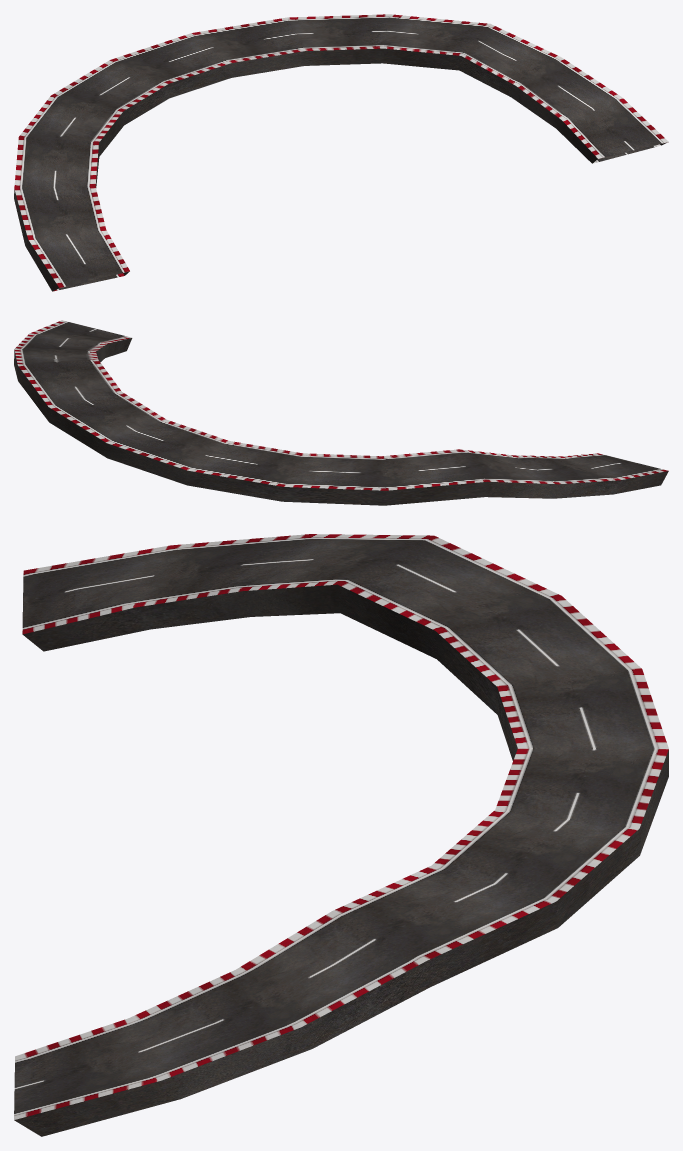
File: road_F.FBX
3 views of the same model, one above another, from view 1: azimuth 30°, elevation 25°; view 2: azimuth 150°, elevation 25°; view 3: azimuth 270°, elevation 25° (orthographic). The views are drawn at different scales.
Visible parts, largest first — view 1: road_F; view 2: road_F; view 3: road_F.
Boxes of the visible parts, x1,y1,x2,y2 form: road_F: (14, 14, 668, 291); road_F: (14, 320, 668, 505); road_F: (14, 534, 668, 1136).
Bounding box in the file's own units: 5420 × 530 × 2730.
